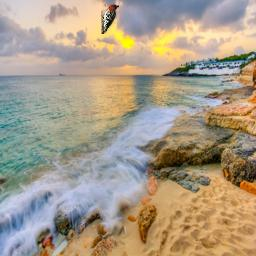Woodpecker: (101, 4, 119, 34)
